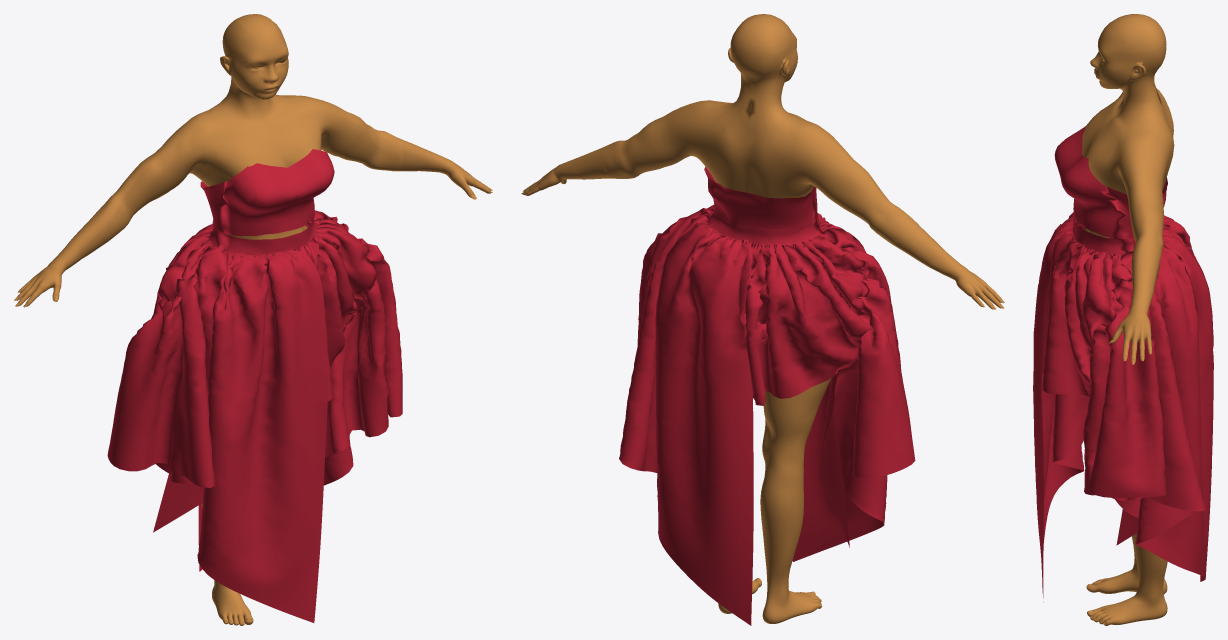
File: dress2.glb
The picture shows the model from 3 angles, left to right: view 1: azimuth 30°, elevation 25°; view 2: azimuth 150°, elevation 25°; view 3: azimuth 270°, elevation 25°; orthographic projection.
Visible parts, largest first — view 1: Project 1, Body; view 2: Project 1, Body; view 3: Project 1, Body.
Part boxes in pixels (x1,y1,x2,y2): Project 1: [107, 149, 402, 622]; Body: [16, 14, 492, 625]; Project 1: [619, 167, 915, 625]; Body: [523, 14, 1001, 623]; Project 1: [1033, 126, 1213, 602]; Body: [1081, 14, 1174, 625].
Bounding box in the file's own units: 1.58 × 1.85 × 0.5151.
